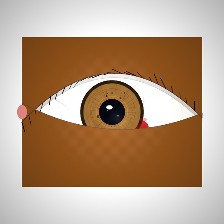hemorrhage_spot: (80, 95, 160, 159)
